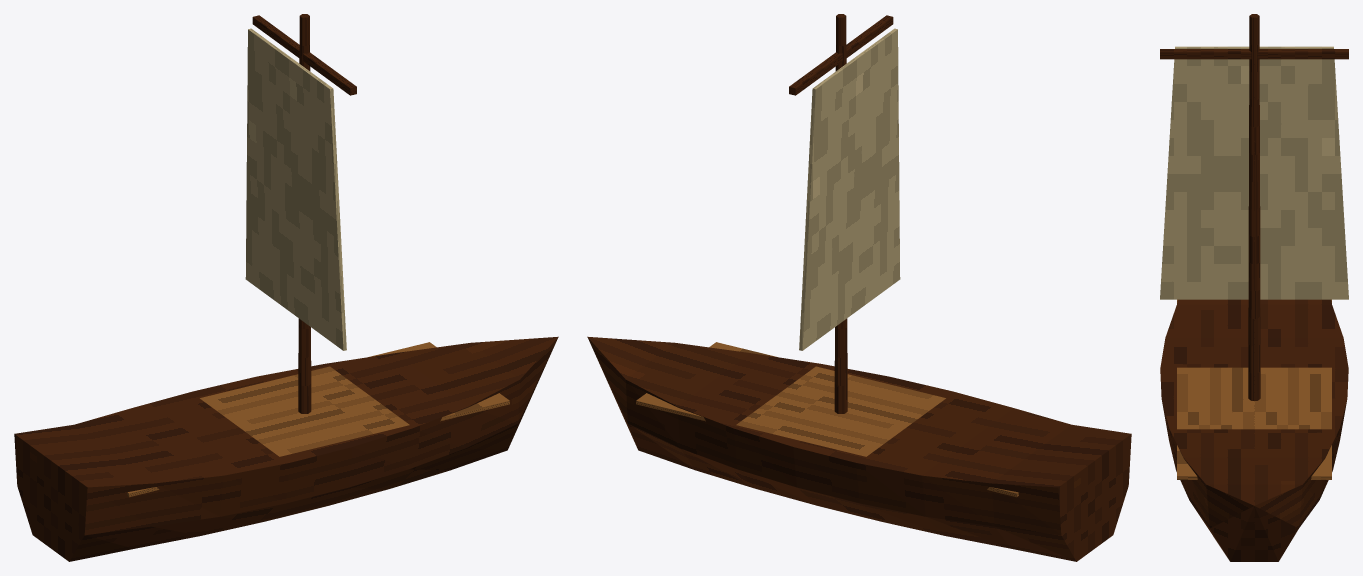
File: velero.glb
3 views of the same model, side by side, from view 1: azimuth 30°, elevation 25°; view 2: azimuth 150°, elevation 25°; view 3: azimuth 270°, elevation 25° (orthographic). The views are drawn at different scales.
Visible parts, largest first — view 1: casco, velas, cubierta, mastiles, vergas; view 2: casco, velas, cubierta, mastiles, vergas; view 3: velas, casco, cubierta, mastiles, vergas.
Part boxes in pixels (left/top/right/bottom): casco: left=14, top=336, right=558, bottom=561; velas: left=245, top=28, right=346, bottom=350; cubierta: left=127, top=342, right=509, bottom=497; mastiles: left=298, top=14, right=311, bottom=413; vergas: left=252, top=15, right=356, bottom=95; casco: left=587, top=336, right=1131, bottom=561; velas: left=799, top=28, right=900, bottom=350; cubierta: left=636, top=342, right=1018, bottom=497; mastiles: left=834, top=14, right=847, bottom=413; vergas: left=789, top=15, right=893, bottom=95; velas: left=1160, top=46, right=1348, bottom=299; casco: left=1160, top=299, right=1348, bottom=561; cubierta: left=1177, top=299, right=1331, bottom=479; mastiles: left=1248, top=14, right=1260, bottom=400; vergas: left=1160, top=49, right=1348, bottom=59.
Size of the model in its own units: 9 by 8 by 3.
Materials: 1 (1 with a texture image).
